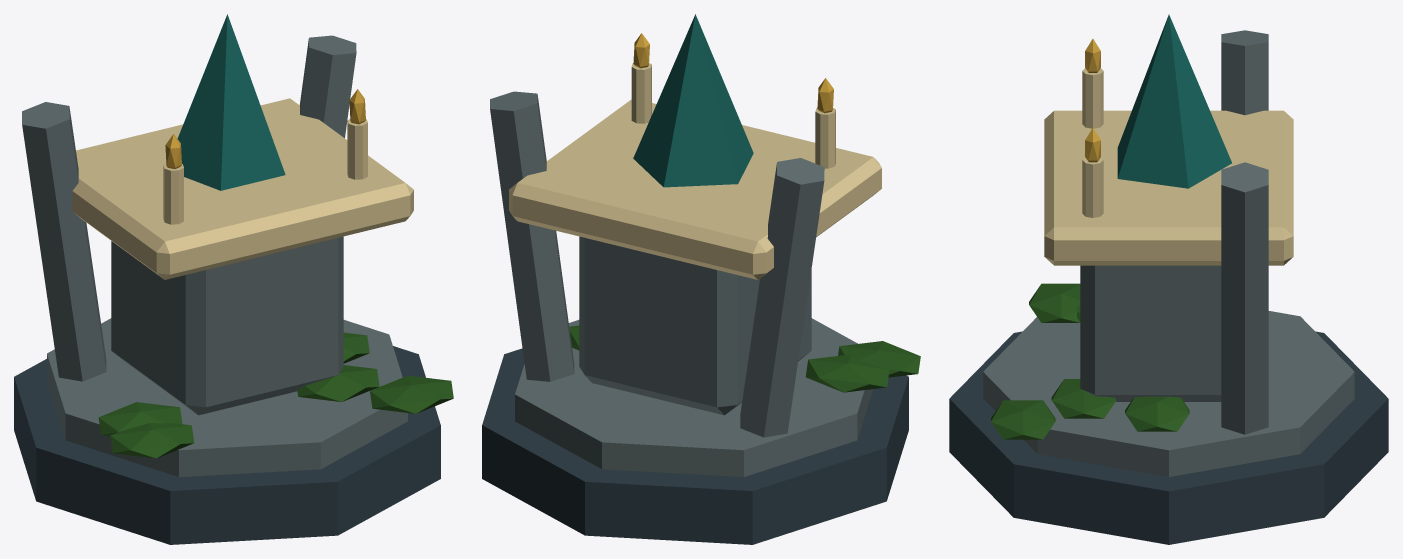
The model's file is AbandonedAltar.fbx.
The picture shows the model from 3 angles, left to right: view 1: azimuth 30°, elevation 25°; view 2: azimuth 150°, elevation 25°; view 3: azimuth 270°, elevation 25°; orthographic projection.
Visible parts, largest first — view 1: AbandonedAltar_Mesh; view 2: AbandonedAltar_Mesh; view 3: AbandonedAltar_Mesh.
Part boxes in pixels (bbox=[...]): AbandonedAltar_Mesh: bbox=[14, 14, 453, 544]; AbandonedAltar_Mesh: bbox=[482, 14, 920, 544]; AbandonedAltar_Mesh: bbox=[949, 14, 1388, 544].
Size of the model in its own units: 1.04 by 1.15 by 1.04.
